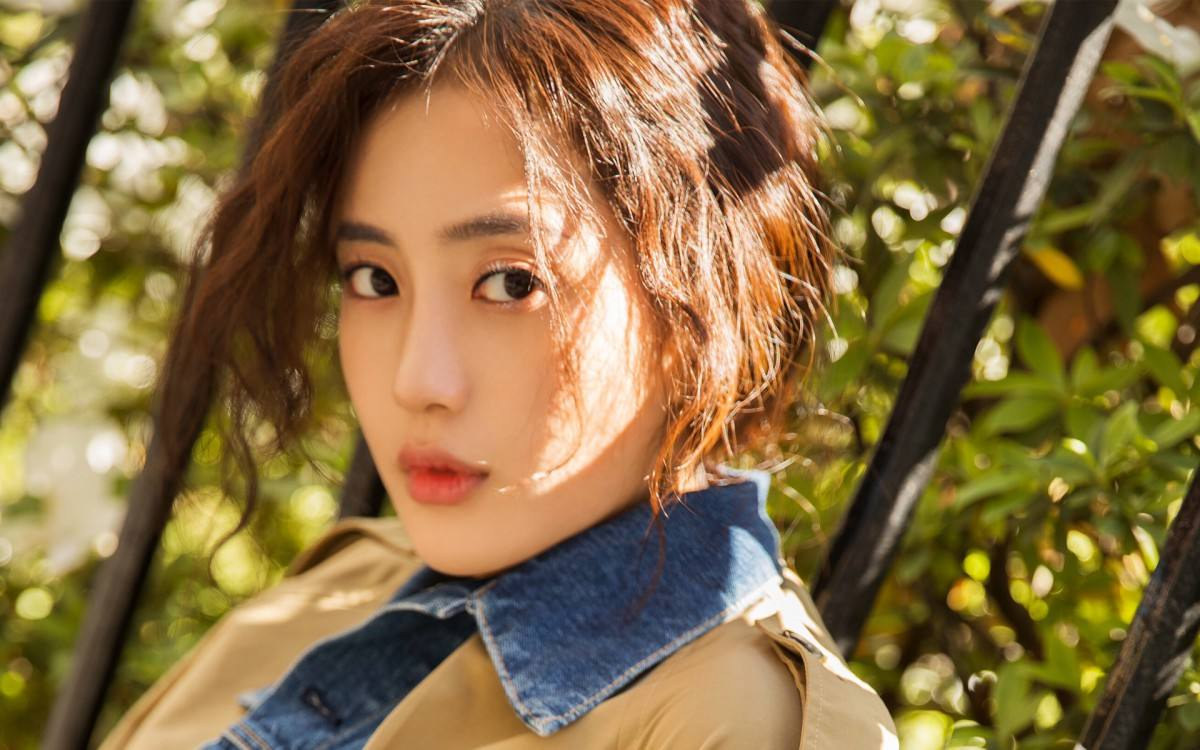person: (246, 24, 892, 705)
